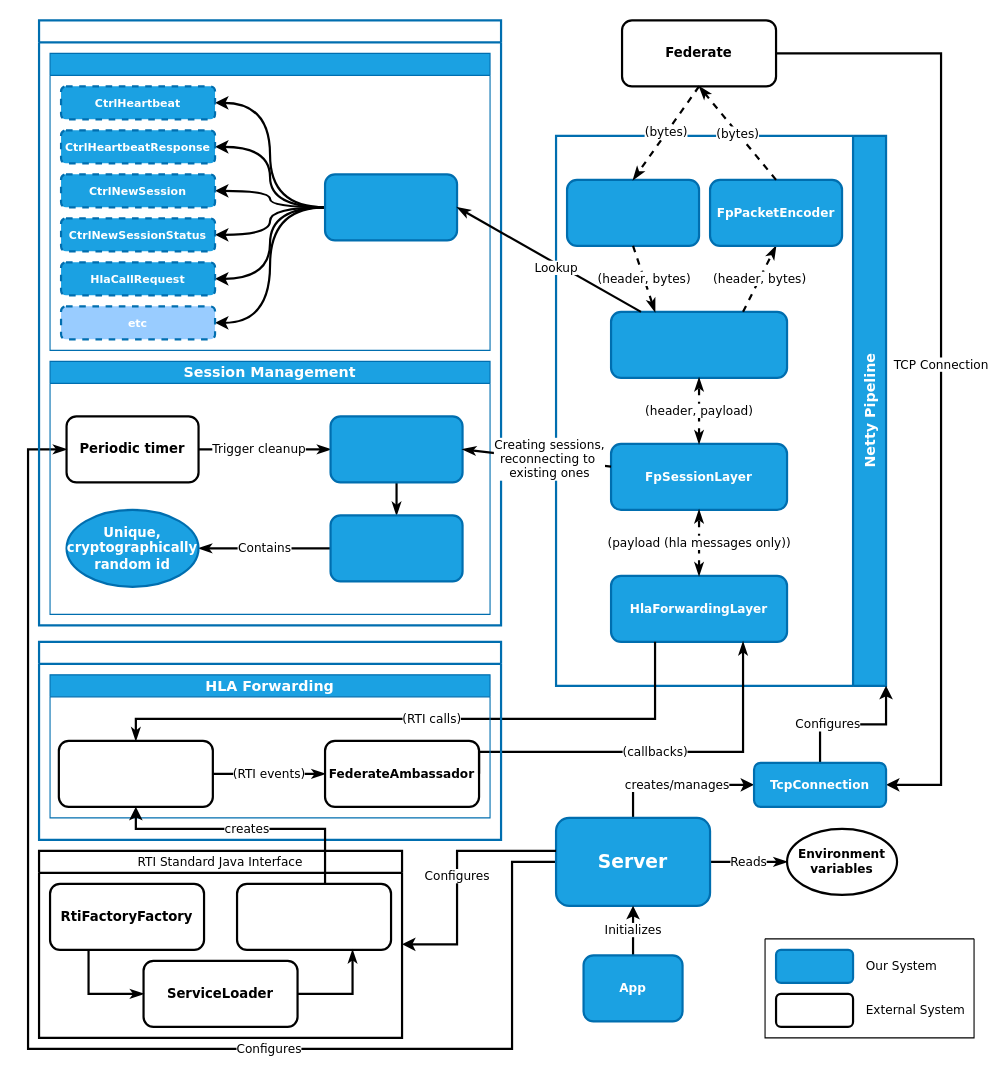
This 1007x1077 diagram has some shape labels left out. The box of each missing label's shape, as (x1, y1, x2, y2) in pixels:
FP (de)serialization: (49, 52, 490, 350)
FpPacketDecoder: (565, 178, 700, 246)
FpPayloadCodec: (609, 310, 788, 378)
FpPayloadRegistry: (323, 173, 458, 241)
HLA Layer Handling: (37, 640, 502, 840)
Legend: (764, 938, 974, 1038)
RtiAmbassador: (57, 739, 213, 807)
RtiFactory: (235, 882, 392, 950)
Session: (329, 514, 463, 582)
Session Layer Handling: (37, 19, 502, 626)
SessionManager: (329, 415, 463, 483)
